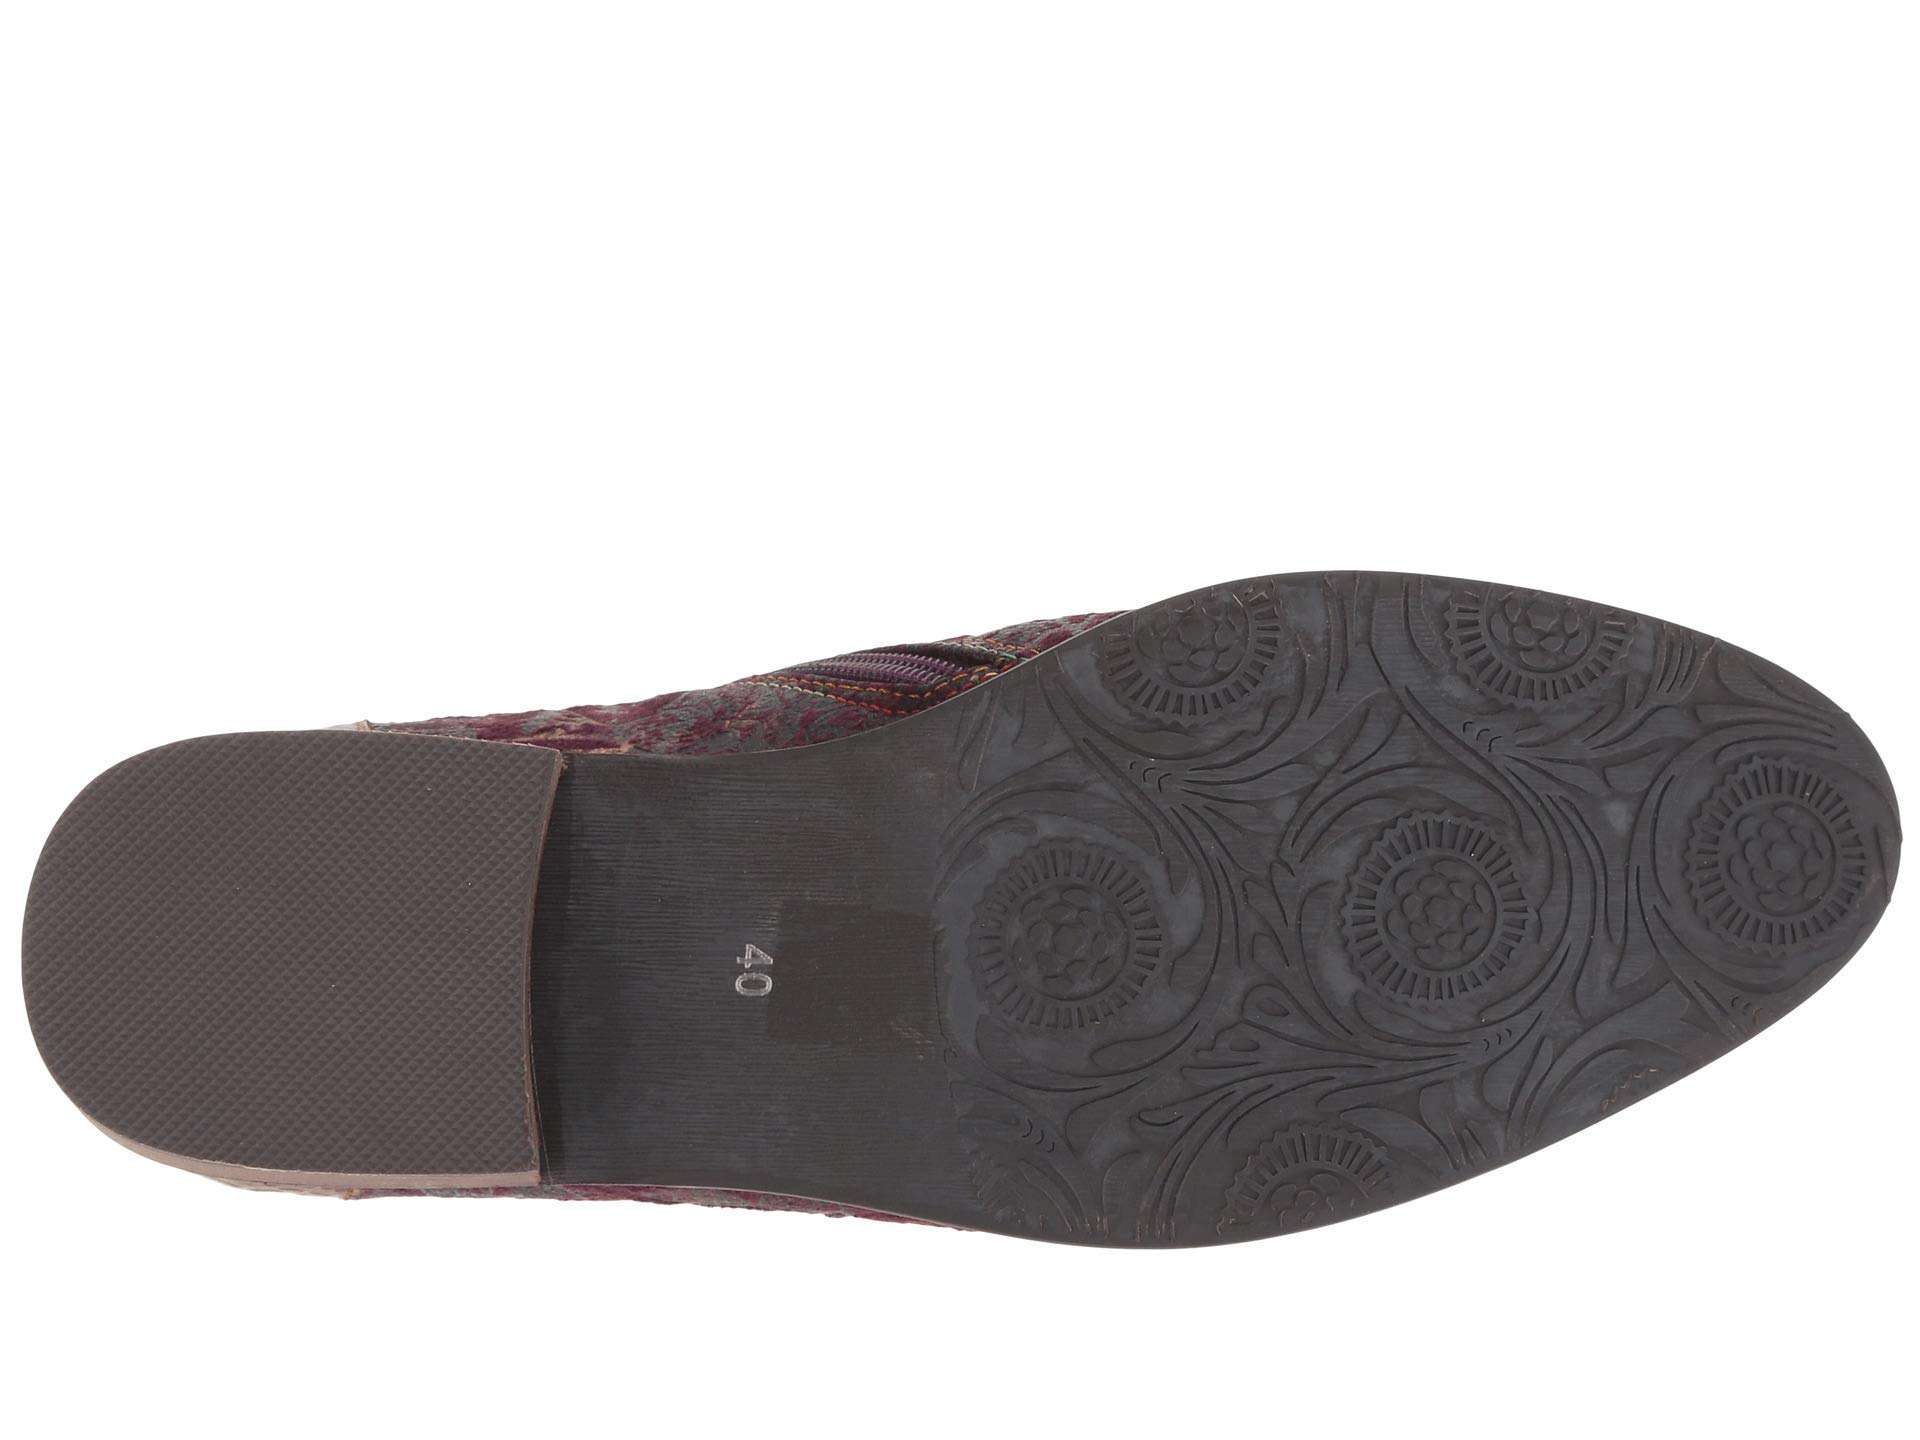circle: (1069, 605, 1457, 1178)
exclude: (531, 712, 951, 1221)
quad: (1069, 605, 1457, 1178), (97, 805, 514, 1162), (1491, 637, 1736, 1041)
